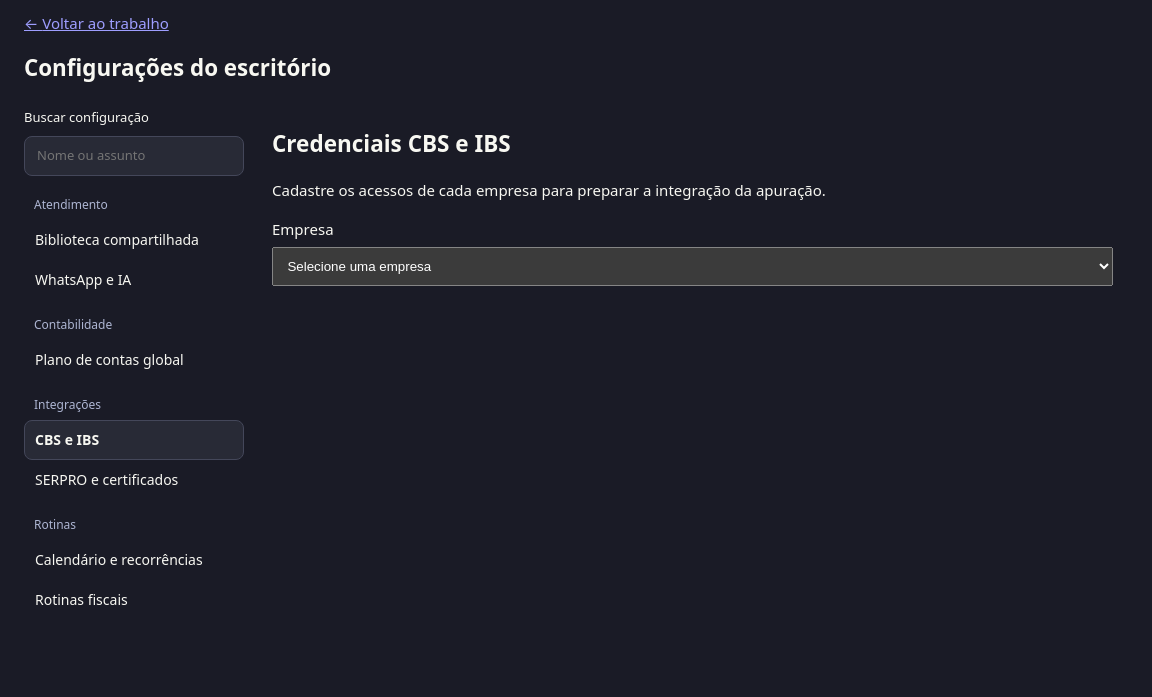
it: salva par na empresa escolhida, limpa segredo e não revela nem consulta provedor
The image size is (1152, 697).
Select "Prisma · 111" in the dropdown labelled "Empresa" at (692, 266), box [272,247,1113,286]
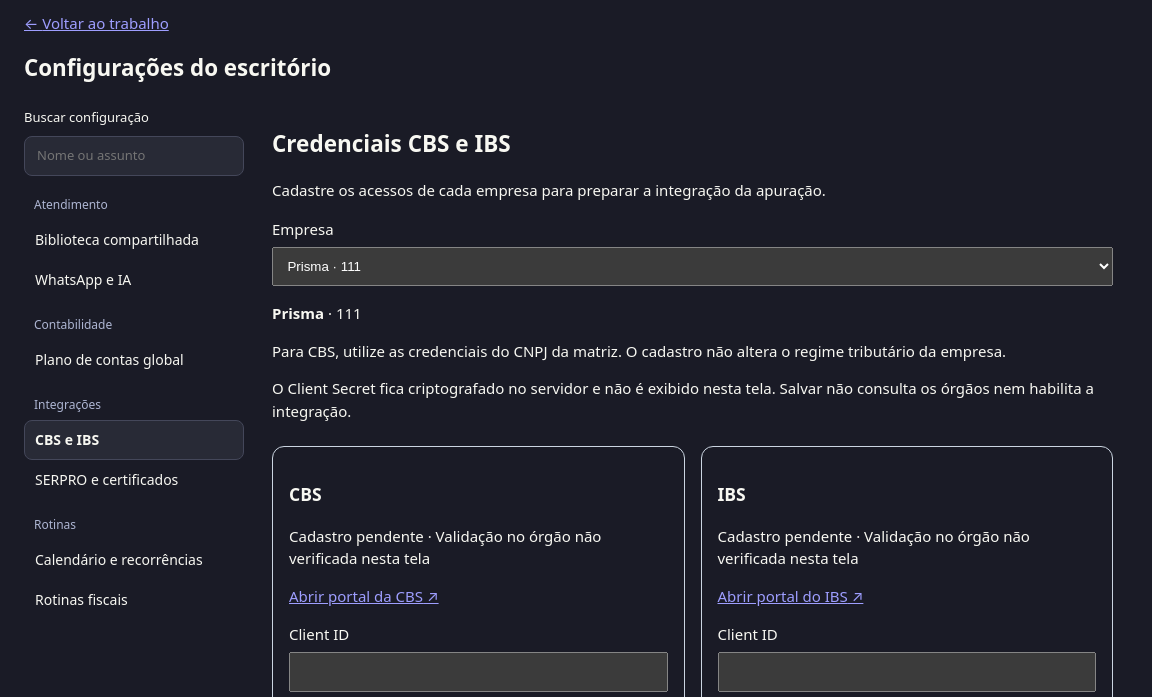
Type "client-cbs" into the field labelled "Client ID" below "Abrir portal da CBS" at (478, 672), box [289,652,668,692]
(page scrolled)
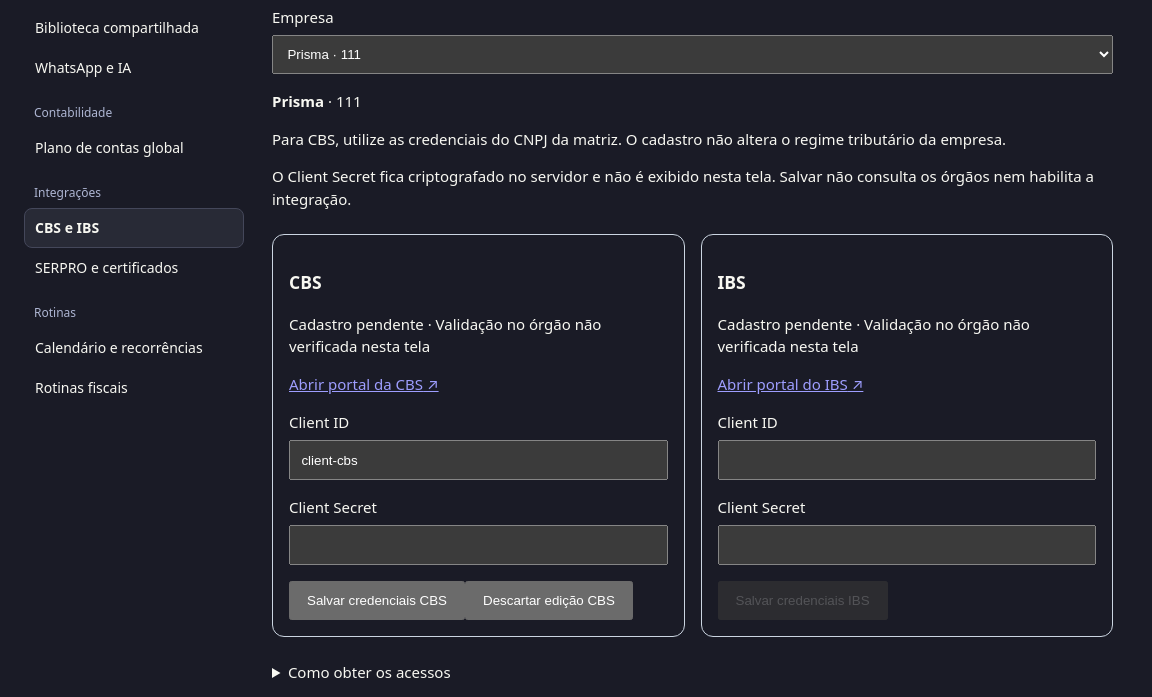
Type "segredo-teste" into the password field labelled "Client Secret" below "Abrir portal da CBS" at (478, 545), box [289,525,668,565]
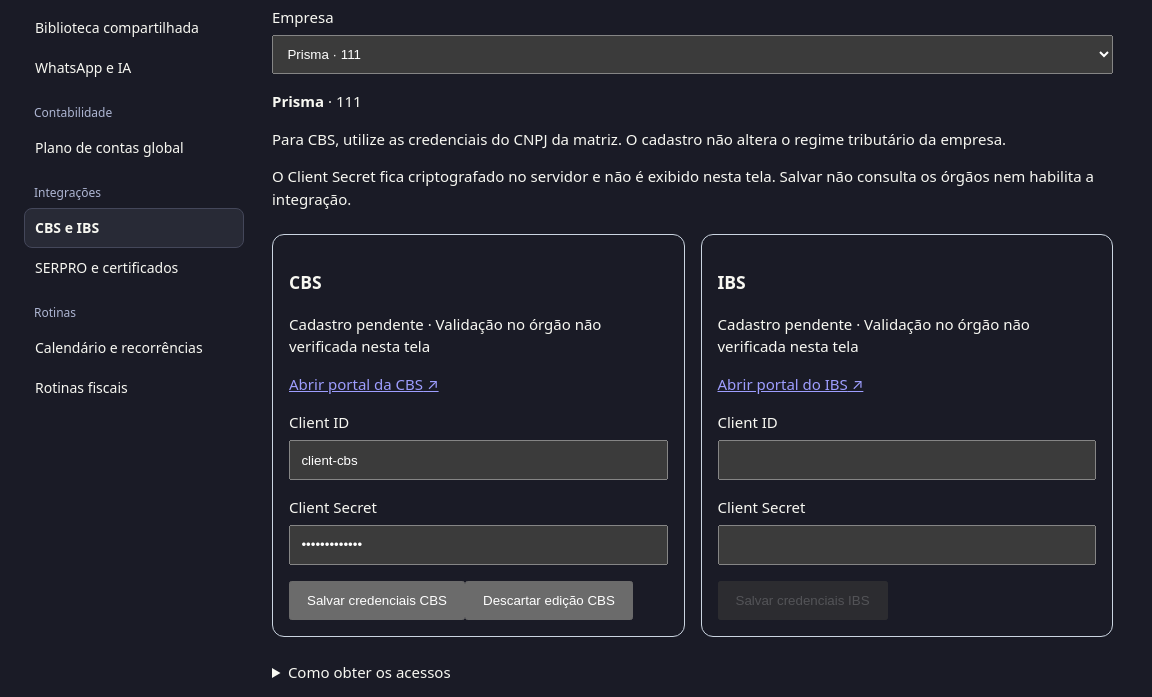
Click the button "Salvar credenciais CBS" at (377, 600), box [289,581,465,620]
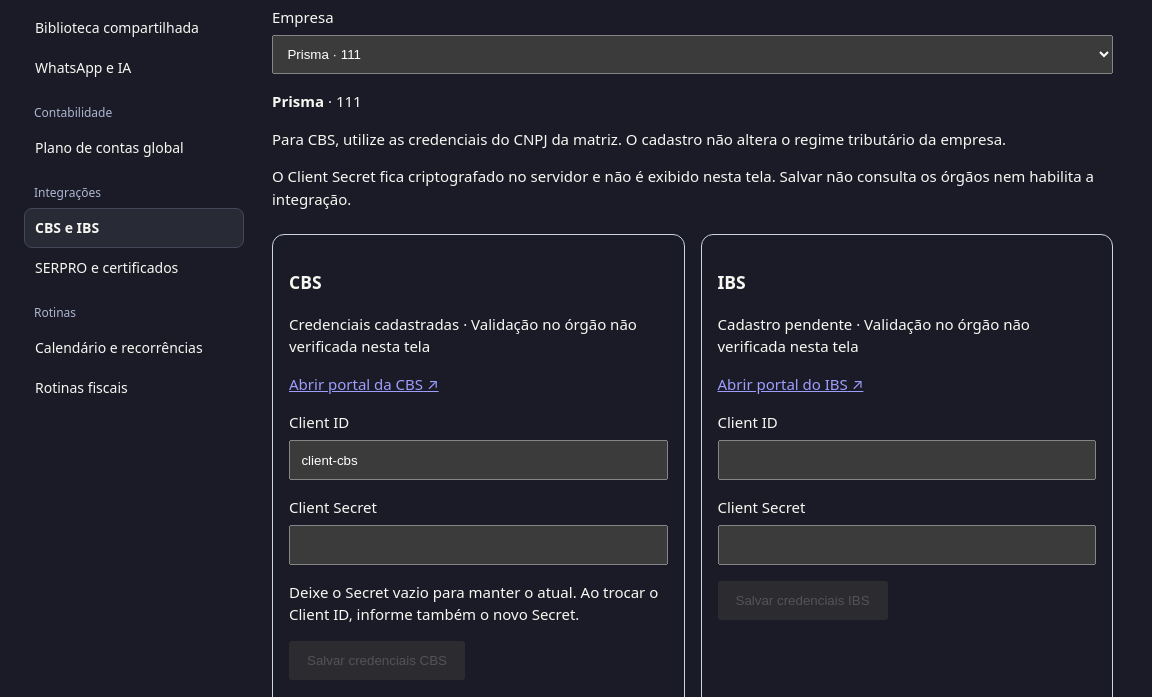
Expected: the password field labelled "Client Secret" below "Abrir portal da CBS" is empty, [289,525,668,565]
Expected: the text "Credenciais cadastradas" is shown, [289,314,459,334]
